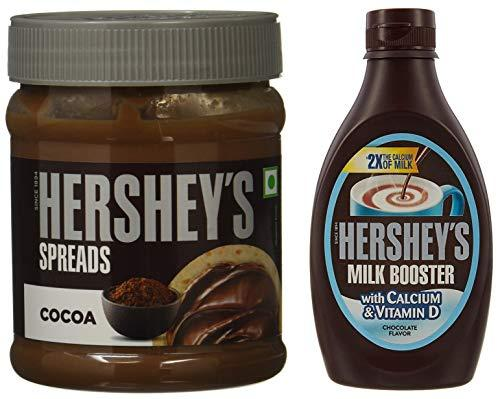Hershey-s: (6, 9, 287, 394)
